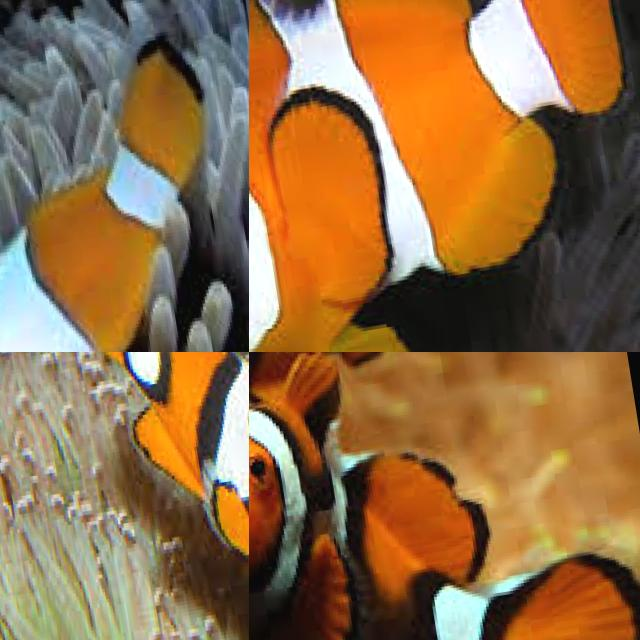Amphiprion-percula: (249, 0, 640, 352), (249, 352, 640, 640), (0, 17, 249, 352), (66, 352, 249, 640), (249, 352, 459, 488)
